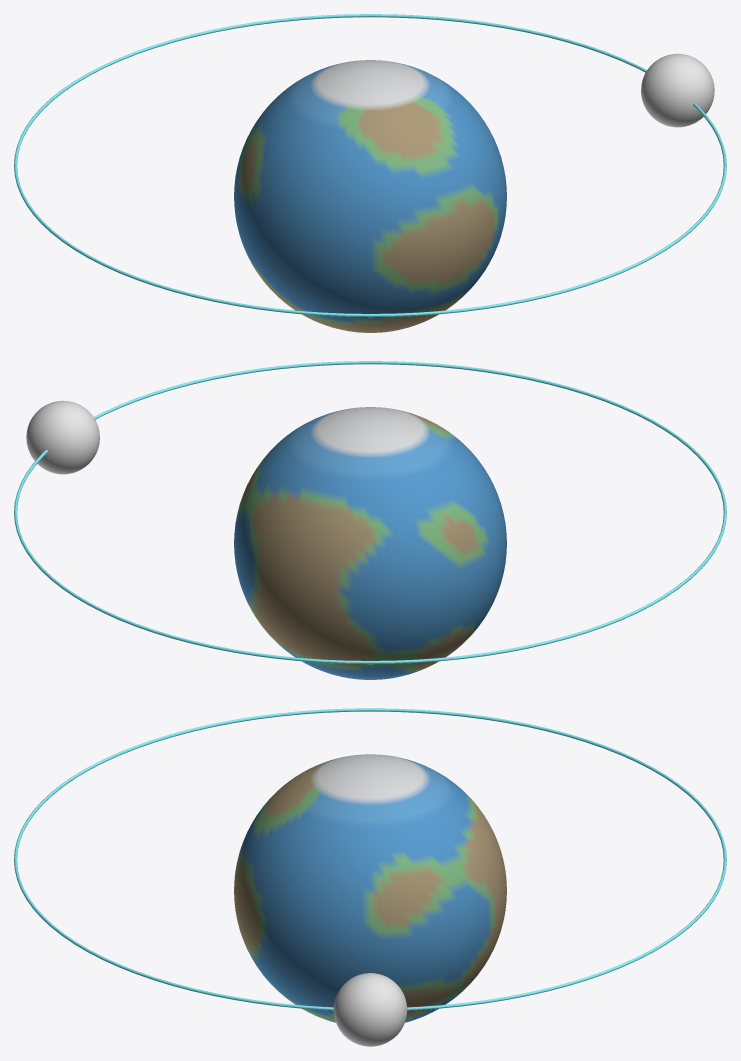
The model's file is earth_models.glb.
3 views of the same model, one above another, from view 1: azimuth 30°, elevation 25°; view 2: azimuth 150°, elevation 25°; view 3: azimuth 270°, elevation 25° (orthographic).
Visible parts, largest first — view 1: Earth, MoonOrbit, Moon; view 2: Earth, MoonOrbit, Moon; view 3: Earth, MoonOrbit, Moon.
Part boxes in pixels (bbox=[...]): Earth: bbox=[234, 60, 506, 332]; MoonOrbit: bbox=[14, 14, 726, 317]; Moon: bbox=[641, 53, 714, 127]; Earth: bbox=[234, 407, 506, 679]; MoonOrbit: bbox=[14, 361, 726, 664]; Moon: bbox=[26, 400, 99, 474]; Earth: bbox=[234, 754, 506, 1022]; MoonOrbit: bbox=[14, 708, 726, 1010]; Moon: bbox=[333, 973, 407, 1046].
Bounding box in the file's own units: 5.48 × 2 × 5.22.
